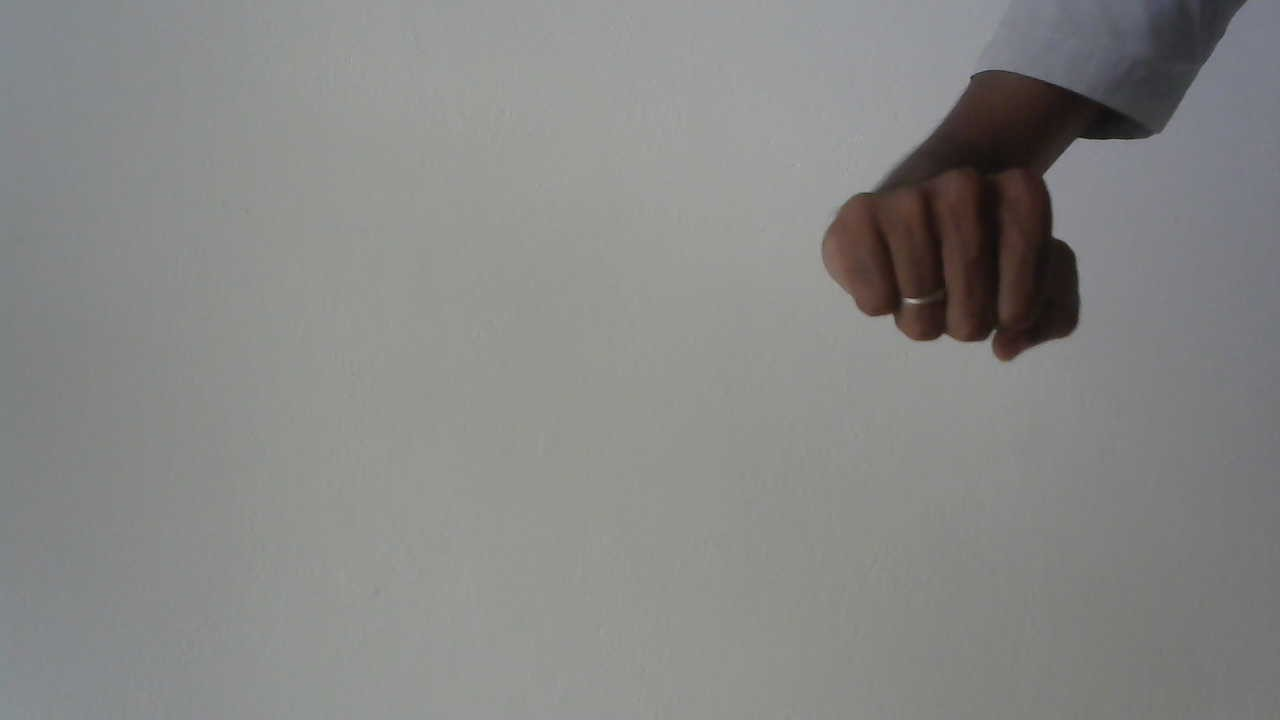yes: (808, 157, 1110, 374)
